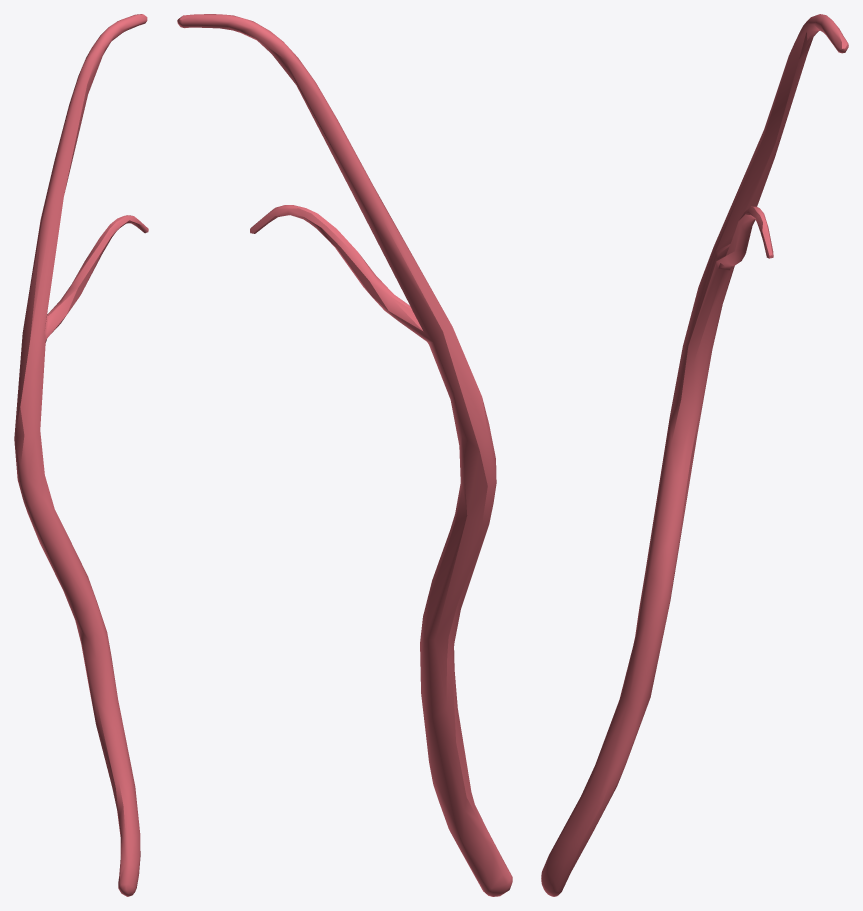
File: fma14349_fj3480.glb
The picture shows the model from 3 angles, left to right: view 1: azimuth 30°, elevation 25°; view 2: azimuth 150°, elevation 25°; view 3: azimuth 270°, elevation 25°; orthographic projection. The views are drawn at different scales.
Visible parts, largest first — view 1: FMA14349_FJ3480; view 2: FMA14349_FJ3480; view 3: FMA14349_FJ3480.
Part boxes in pixels (x1,y1,x2,y2): FMA14349_FJ3480: (14,14,148,896); FMA14349_FJ3480: (177,14,512,896); FMA14349_FJ3480: (541,14,848,896).
Bounding box in the file's own units: 0.0171 × 0.0654 × 0.0194.
